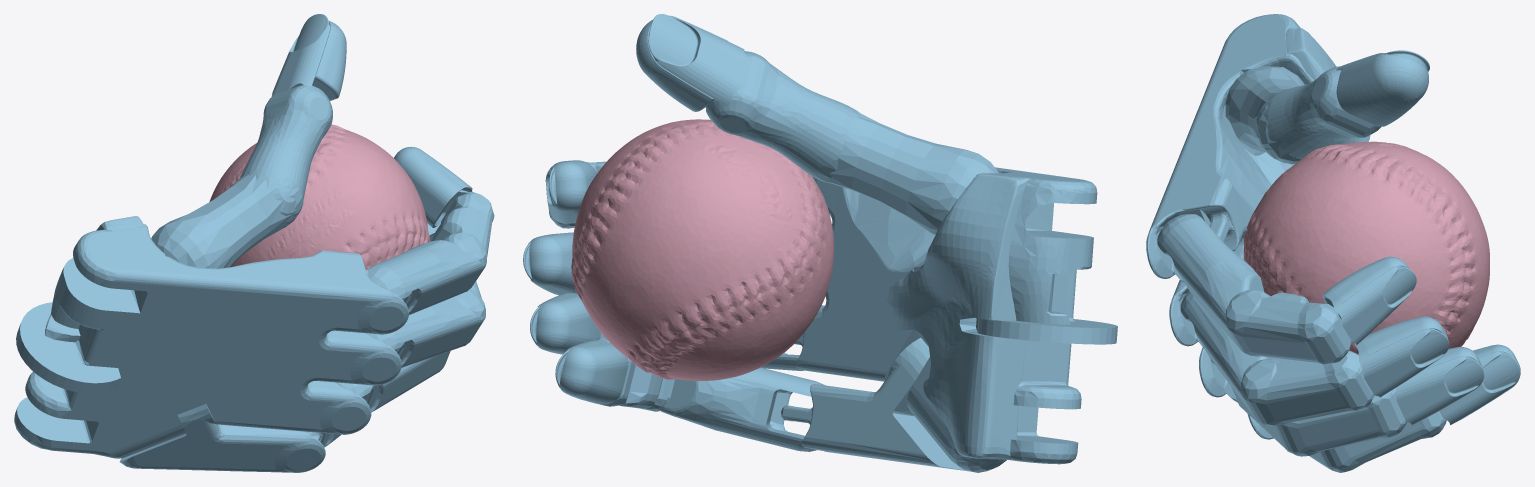
3 views of the same model, side by side, from view 1: azimuth 30°, elevation 25°; view 2: azimuth 150°, elevation 25°; view 3: azimuth 270°, elevation 25° (orthographic). The views are drawn at different scales.
Parts seen in each view (by area): view 1: world; view 2: world; view 3: world.
Part boxes in pixels (left/top/right/bottom): world: left=14, top=14, right=494, bottom=472; world: left=523, top=14, right=1117, bottom=472; world: left=1146, top=14, right=1520, bottom=472.
Size of the model in its own units: 0.177 by 0.1407 by 0.1103.
